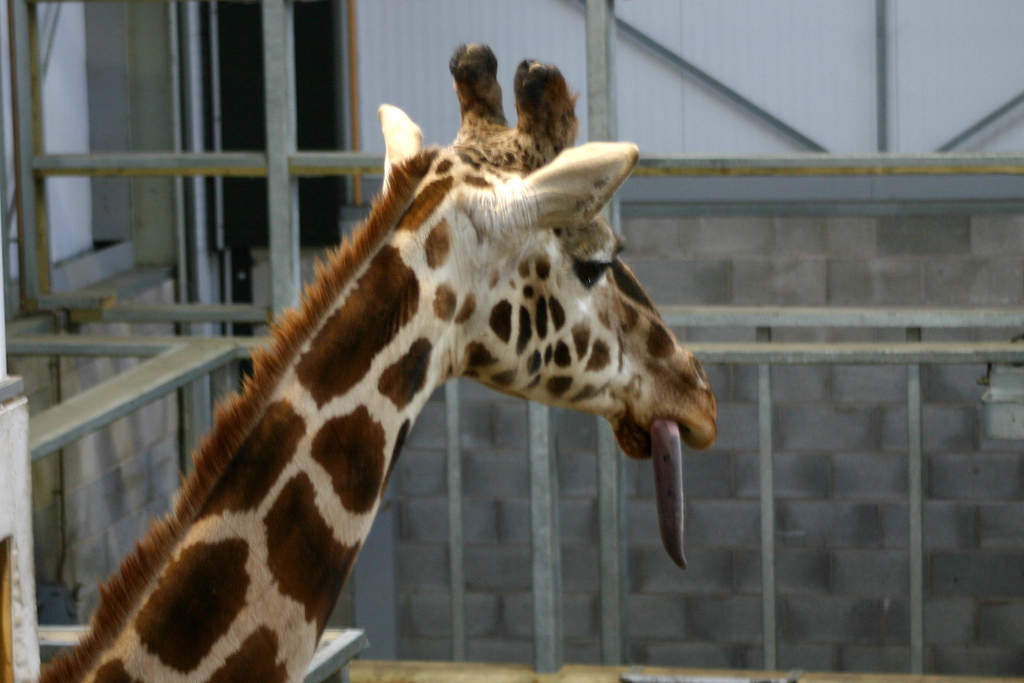giraffe: (175, 15, 761, 680)
